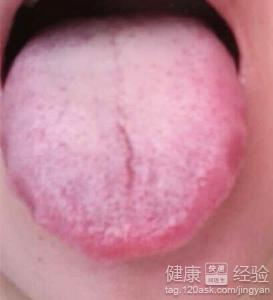baitaishe: (1, 18, 246, 259)
chihenshe: (197, 100, 247, 221), (1, 123, 43, 226)
liewenshe: (111, 112, 138, 194)
